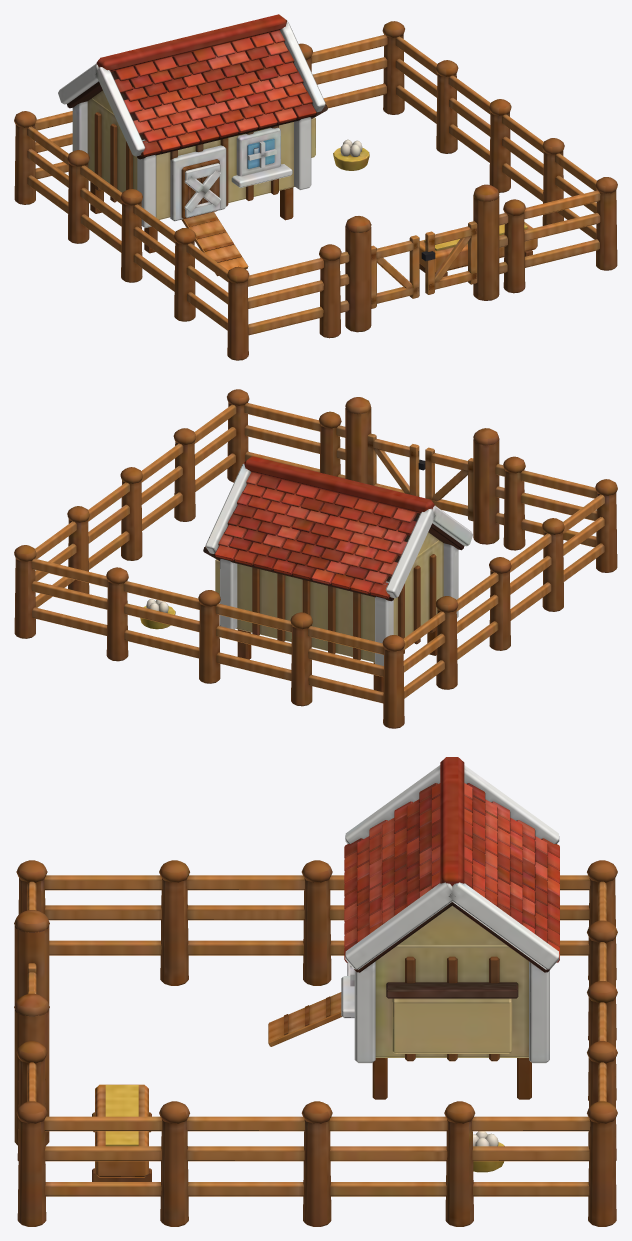
File: orpington_coop.glb
The picture shows the model from 3 angles, top to bottom: view 1: azimuth 30°, elevation 25°; view 2: azimuth 150°, elevation 25°; view 3: azimuth 270°, elevation 25°; orthographic projection. The views are drawn at different scales.
Visible parts, largest first — view 1: orpington_coop, gate1, gate0; view 2: orpington_coop, gate1, gate0; view 3: orpington_coop.
Part boxes in pixels (<box>): orpington_coop: <box>14,14,617,360</box>; gate1: <box>421,221,477,294</box>; gate0: <box>371,235,419,308</box>; orpington_coop: <box>14,389,617,728</box>; gate1: <box>367,433,425,496</box>; gate0: <box>425,447,473,521</box>; orpington_coop: <box>14,757,617,1226</box>.
Size of the model in its own units: 2 by 0.8813 by 2.01.
1 material, 1 textured.
